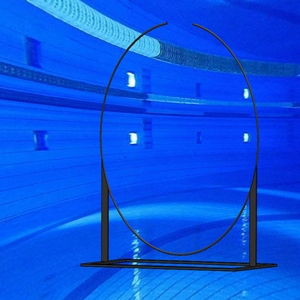circle: (79, 21, 279, 274)
